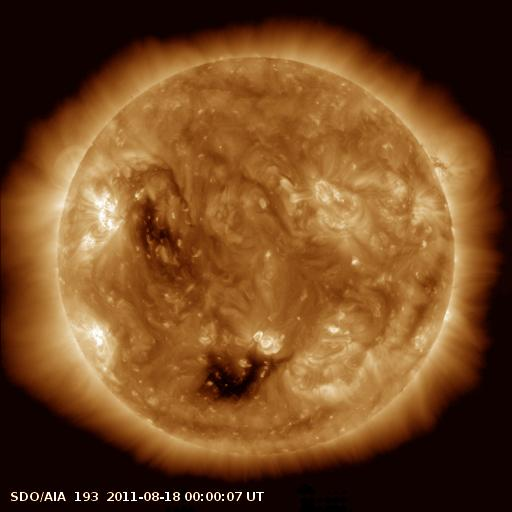coronal_hole: (200, 355, 276, 402)
